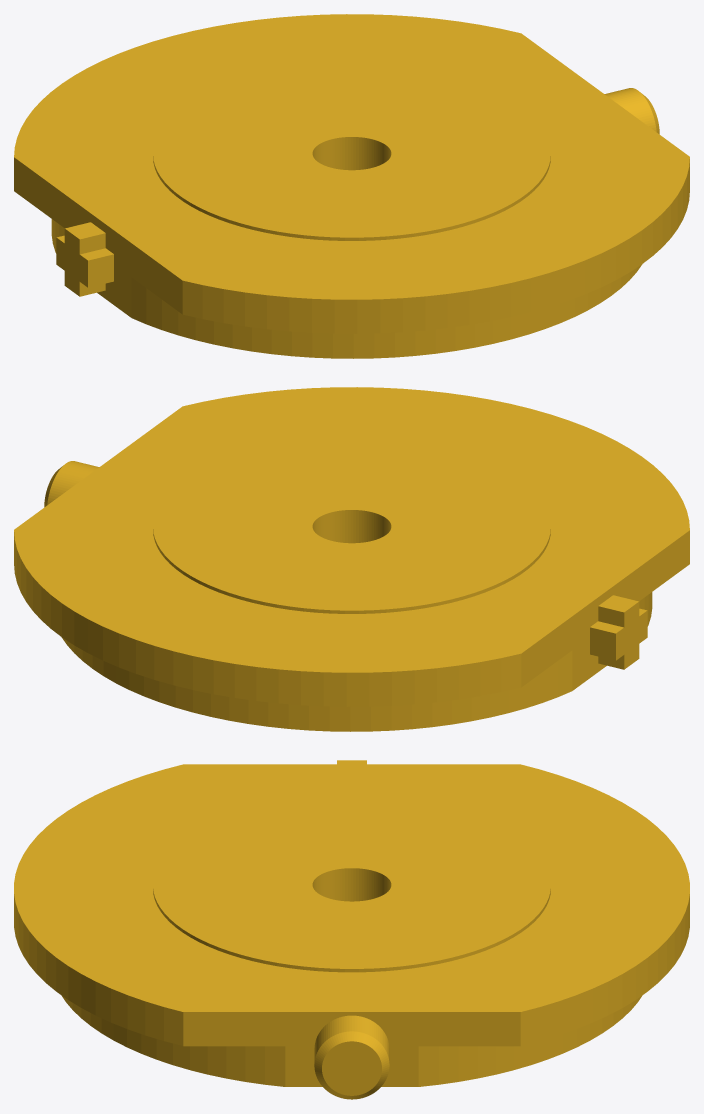
The picture shows the model from 3 angles, top to bottom: view 1: azimuth 30°, elevation 25°; view 2: azimuth 150°, elevation 25°; view 3: azimuth 270°, elevation 25°; orthographic projection.
Visible parts, largest first — view 1: Link_T; view 2: Link_T; view 3: Link_T.
Boxes of the visible parts, bbox=[...] form: Link_T: bbox=[14, 14, 689, 358]; Link_T: bbox=[14, 387, 689, 731]; Link_T: bbox=[14, 760, 689, 1099].
Bounding box in the file's own units: 0.088 × 0.0899 × 0.0115.
Materials: 1 (1 with a texture image).
